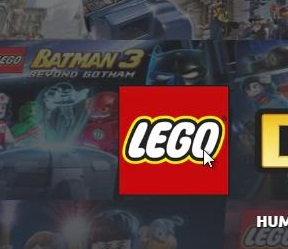cursor: (202, 148, 215, 168)
